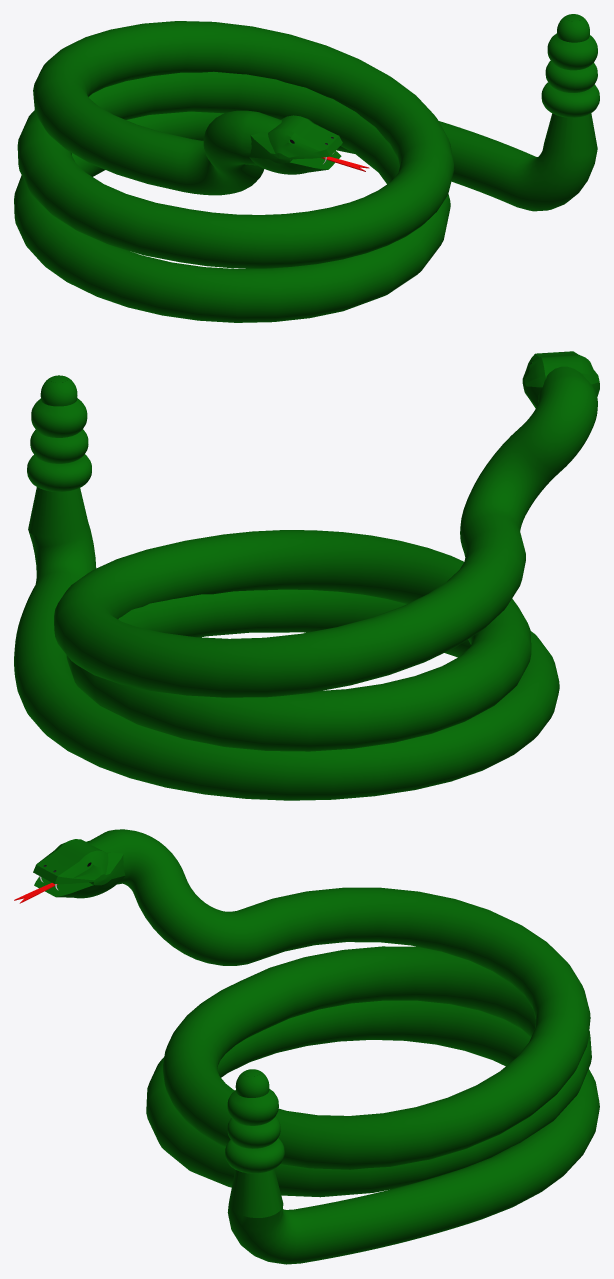
File: besssss.fbx
3 renders of one model, top to bottom at view 1: azimuth 30°, elevation 25°; view 2: azimuth 150°, elevation 25°; view 3: azimuth 270°, elevation 25°, orthographic. The views are drawn at different scales.
Parts seen in each view (by area): view 1: Model, Group1; view 2: Model, Group1; view 3: Model, Group1.
Part boxes in pixels (x1,y1,x2,y2): Model: (14,21,597,322); Group1: (541,14,599,117); Model: (14,351,599,800); Group1: (27,375,91,491); Model: (14,829,599,1264); Group1: (225,1069,284,1173).
Bounding box in the file's own units: 28.88 × 13.67 × 29.1.
